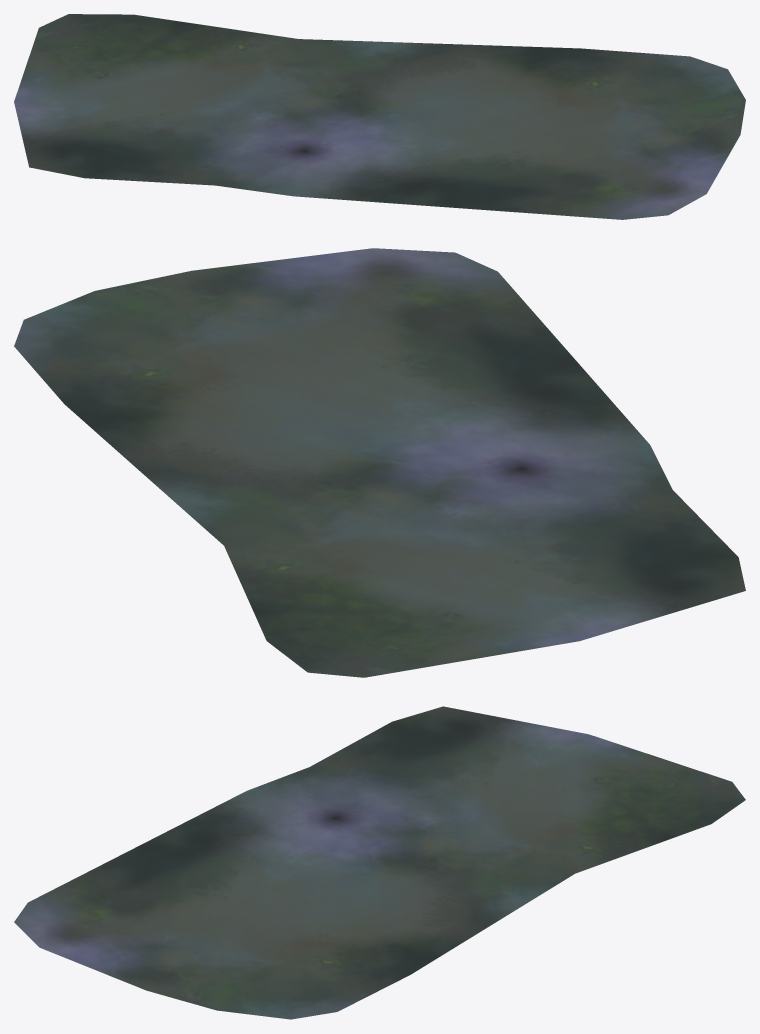
The model's file is CZPlat_7_Top.gltf.
The picture shows the model from 3 angles, top to bottom: view 1: azimuth 30°, elevation 25°; view 2: azimuth 150°, elevation 25°; view 3: azimuth 270°, elevation 25°; orthographic projection. The views are drawn at different scales.
Parts seen in each view (by area): view 1: CZPlat_7_Top; view 2: CZPlat_7_Top; view 3: CZPlat_7_Top.
Part boxes in pixels (x1,y1,x2,y2): CZPlat_7_Top: (14,14,745,219); CZPlat_7_Top: (14,248,745,677); CZPlat_7_Top: (14,706,745,1019).
Size of the model in its own units: 45.38 by 0 by 44.83.
1 material, 1 textured.
